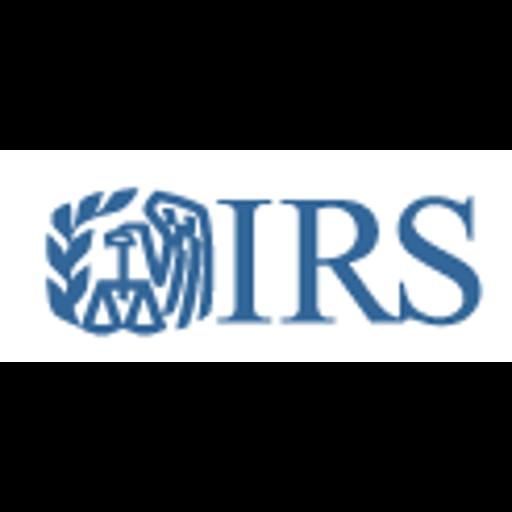IRS: (0, 150, 512, 362)
